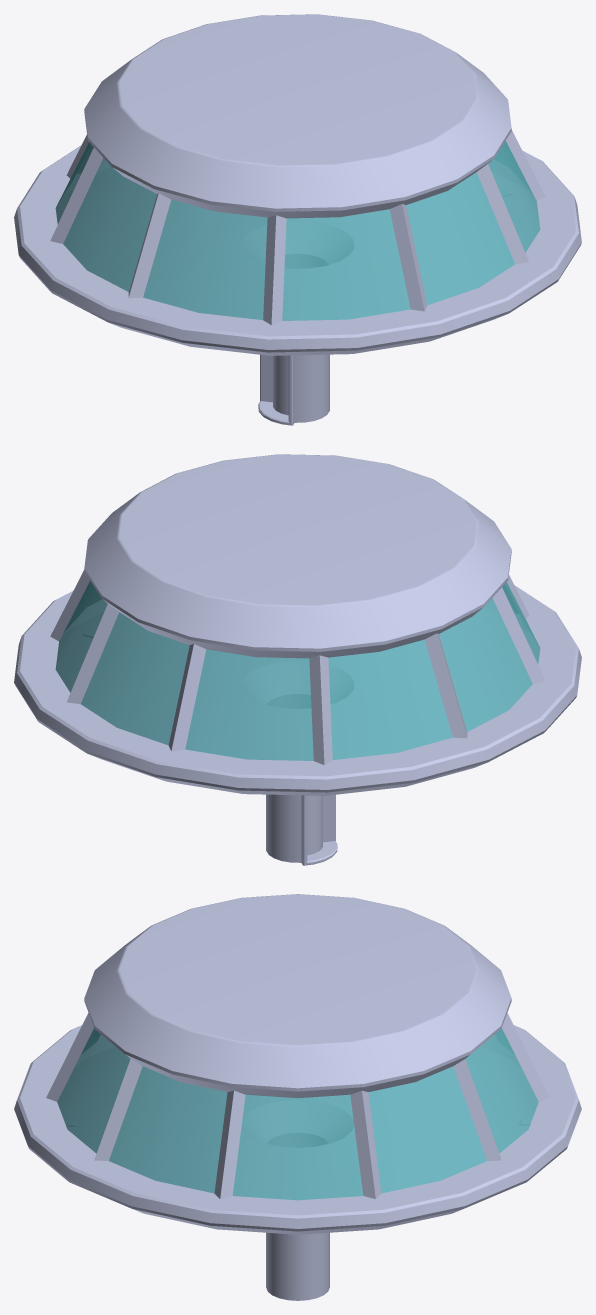
File: main house.fbx
3 views of the same model, one above another, from view 1: azimuth 30°, elevation 25°; view 2: azimuth 150°, elevation 25°; view 3: azimuth 270°, elevation 25° (orthographic).
Parts seen in each view (by area): view 1: cowboy_hat_low_poly:cowboy_hat_low_poly:pCube3; view 2: cowboy_hat_low_poly:cowboy_hat_low_poly:pCube3; view 3: cowboy_hat_low_poly:cowboy_hat_low_poly:pCube3.
Part boxes in pixels (bbox=[...]): cowboy_hat_low_poly:cowboy_hat_low_poly:pCube3: bbox=[14, 14, 581, 425]; cowboy_hat_low_poly:cowboy_hat_low_poly:pCube3: bbox=[14, 454, 581, 865]; cowboy_hat_low_poly:cowboy_hat_low_poly:pCube3: bbox=[14, 894, 581, 1300].
Size of the model in its own units: 1699 by 1055 by 1699.
